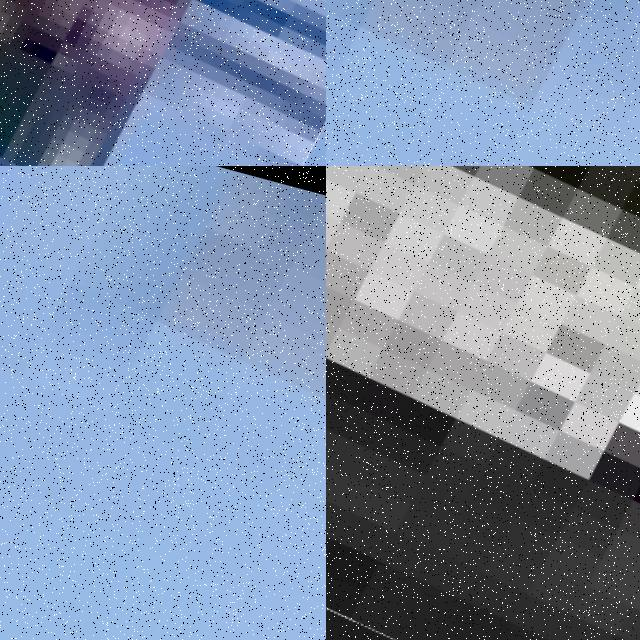0: (0, 166, 326, 640), (0, 0, 326, 166), (326, 0, 640, 166)
drone: (326, 166, 640, 640)
